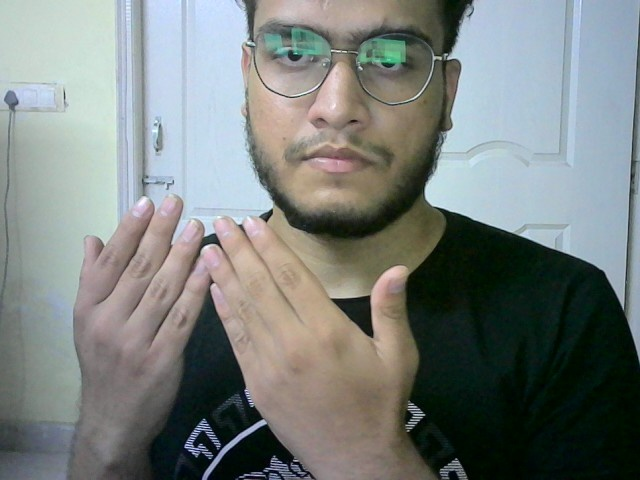Thank You: (61, 192, 424, 431)
